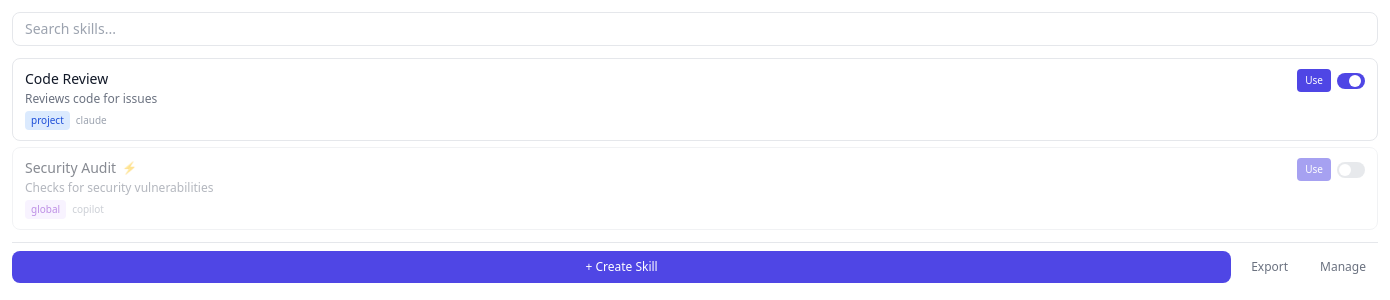
Test: SkillsPanel › shows "No skills match" when search has no results
Check: the text "Code Review" is shown, box [25,69,108,89]
Type "nonexistent" into the field with placeholder "Search skills..." at (695, 29), box [12,12,1378,46]
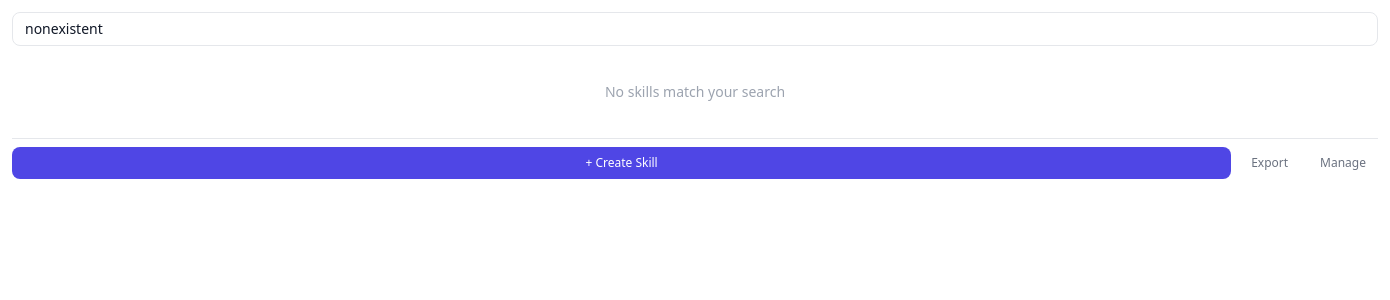
Check: the text "No skills match your search" is shown, box [605,82,785,101]
